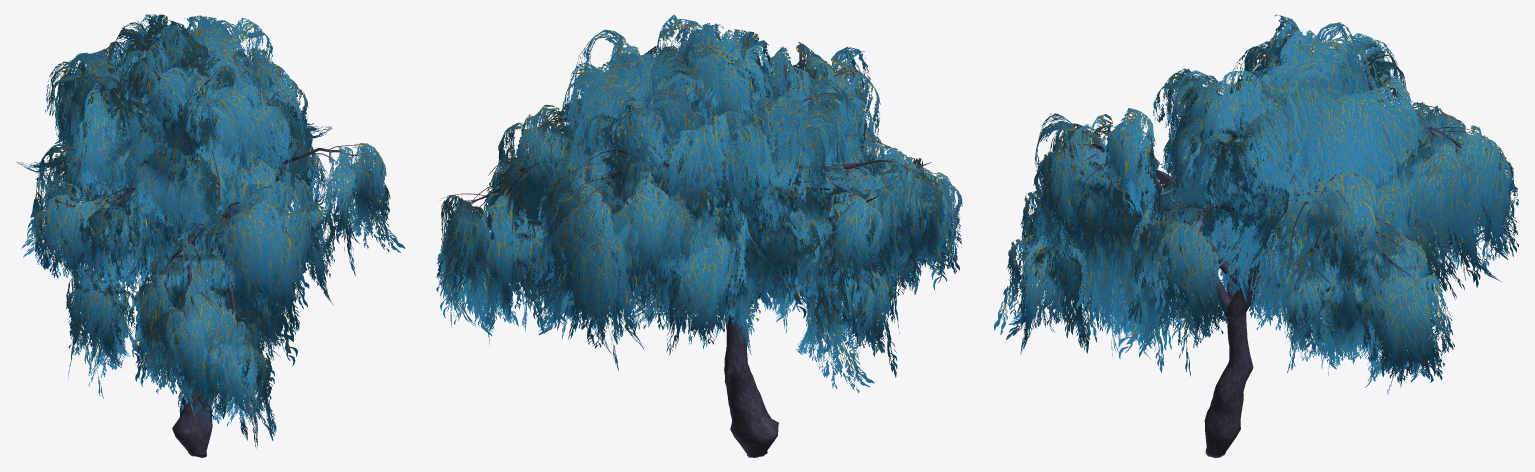
3 views of the same model, side by side, from view 1: azimuth 30°, elevation 25°; view 2: azimuth 150°, elevation 25°; view 3: azimuth 270°, elevation 25° (orthographic). The views are drawn at different scales.
Visible parts, largest first — view 1: SM_Willow_01_LOD0; view 2: SM_Willow_01_LOD0; view 3: SM_Willow_01_LOD0.
Boxes of the visible parts, x1,y1,x2,y2 form: SM_Willow_01_LOD0: (17, 14, 405, 457); SM_Willow_01_LOD0: (436, 14, 962, 457); SM_Willow_01_LOD0: (994, 14, 1518, 457).
Bounding box in the file's own units: 16.15 × 18.26 × 19.93.
Materials: 2 (2 with a texture image).
